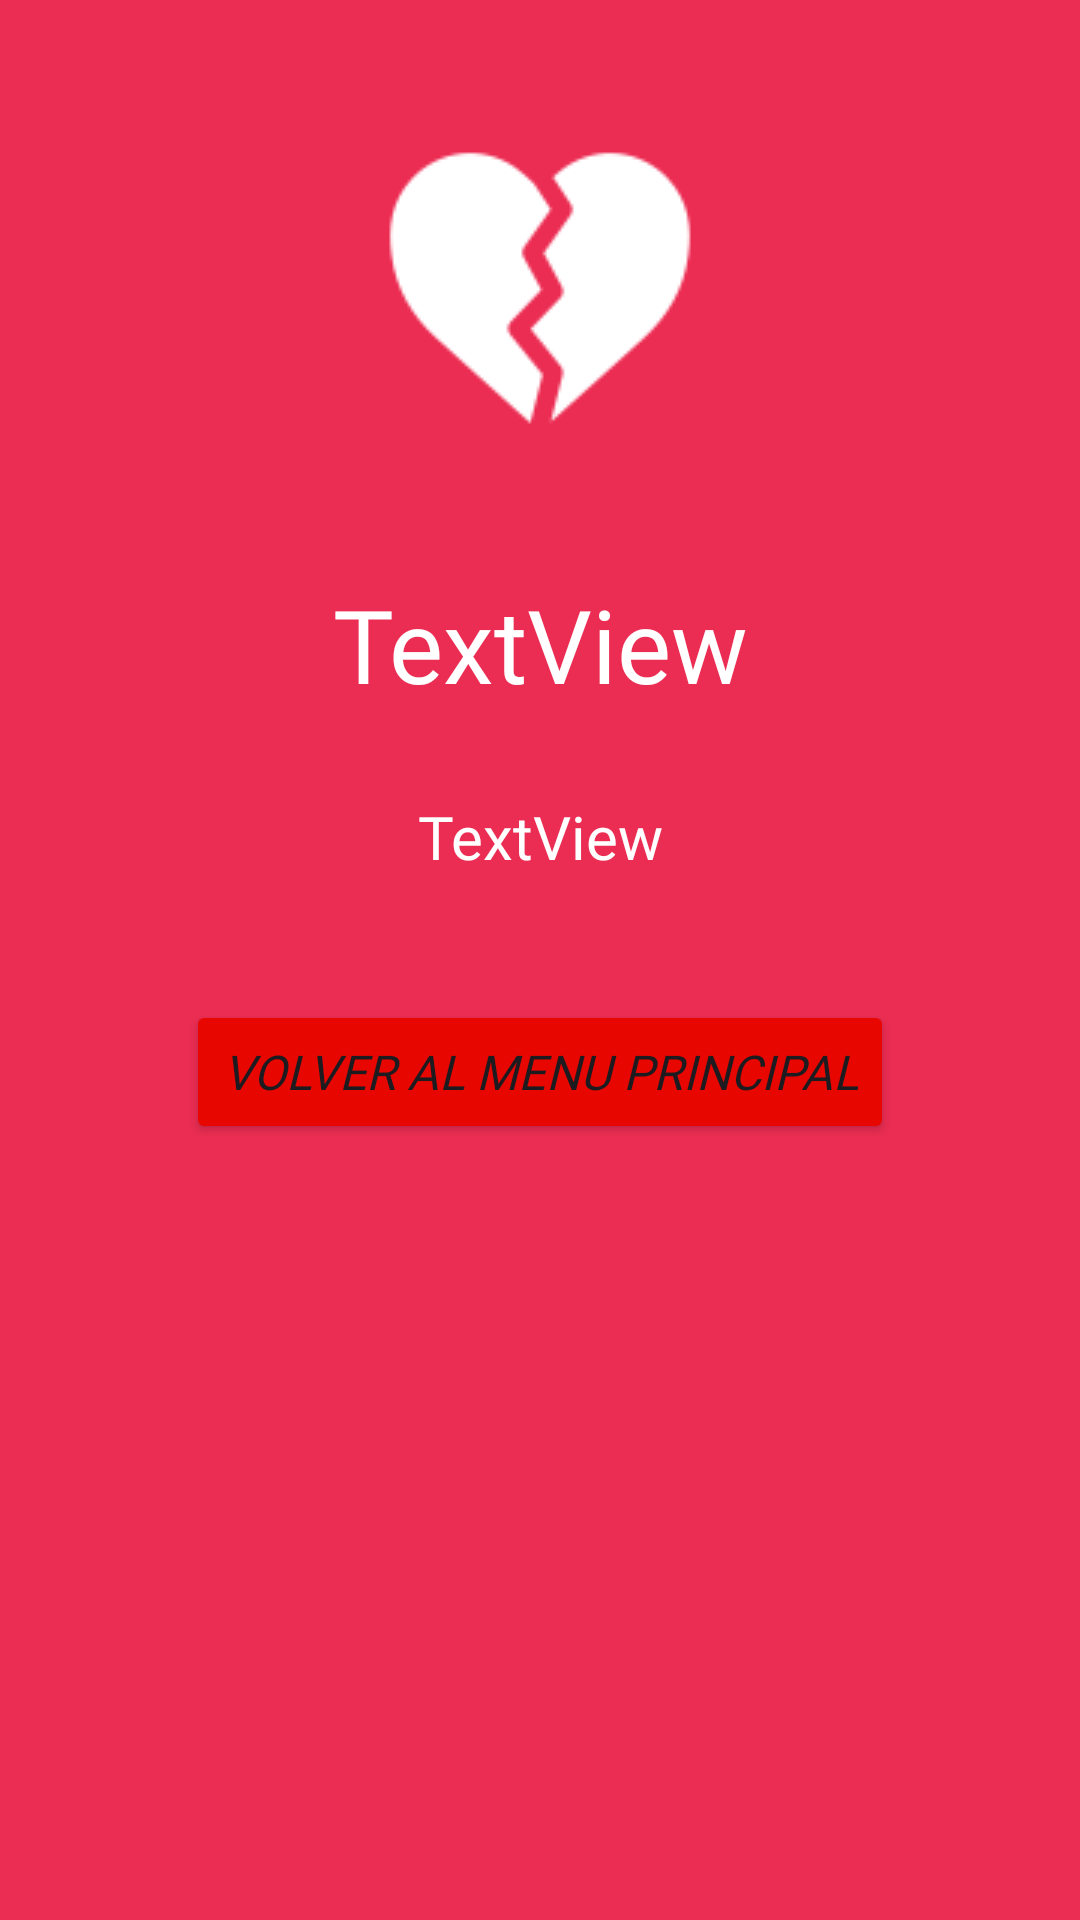

Where to tap for icons on this 1080x1920 app screen, as [x,y]:
heart break: [540,288]
